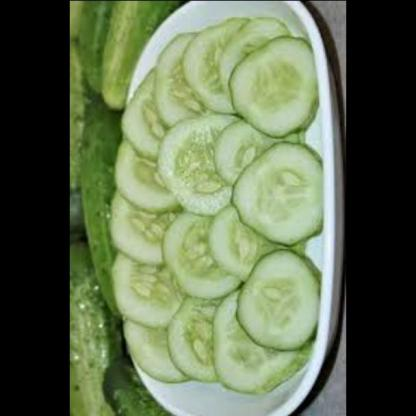cucumber: (110, 13, 320, 388), (69, 0, 168, 416)
